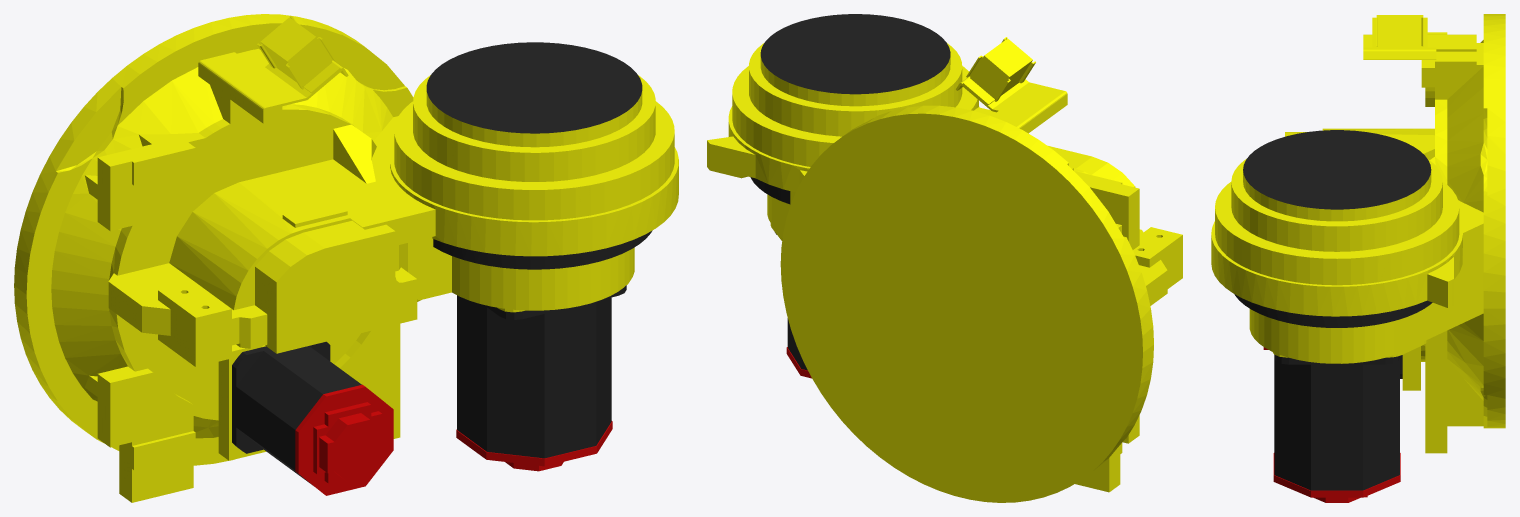
The picture shows the model from 3 angles, left to right: view 1: azimuth 30°, elevation 25°; view 2: azimuth 150°, elevation 25°; view 3: azimuth 270°, elevation 25°; orthographic projection. The views are drawn at different scales.
Visible parts, largest first — view 1: node; view 2: node; view 3: node.
Boxes of the visible parts, x1,y1,x2,y2 form: node: (14,14,678,502); node: (707,14,1182,502); node: (1211,14,1505,502).
Size of the model in its own units: 756 by 610 by 404.
